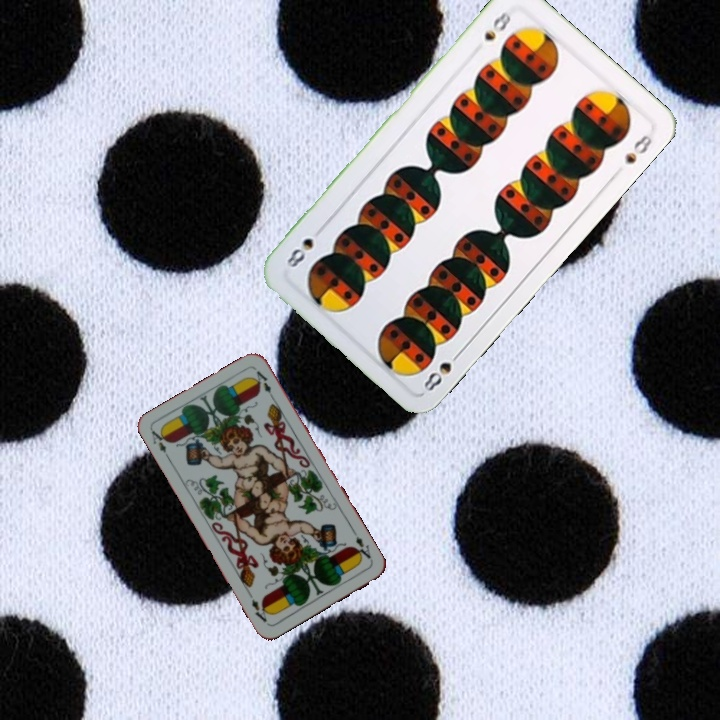EA: (147, 425, 173, 463), (349, 527, 375, 563)
S8: (419, 346, 465, 394), (479, 7, 515, 44)
